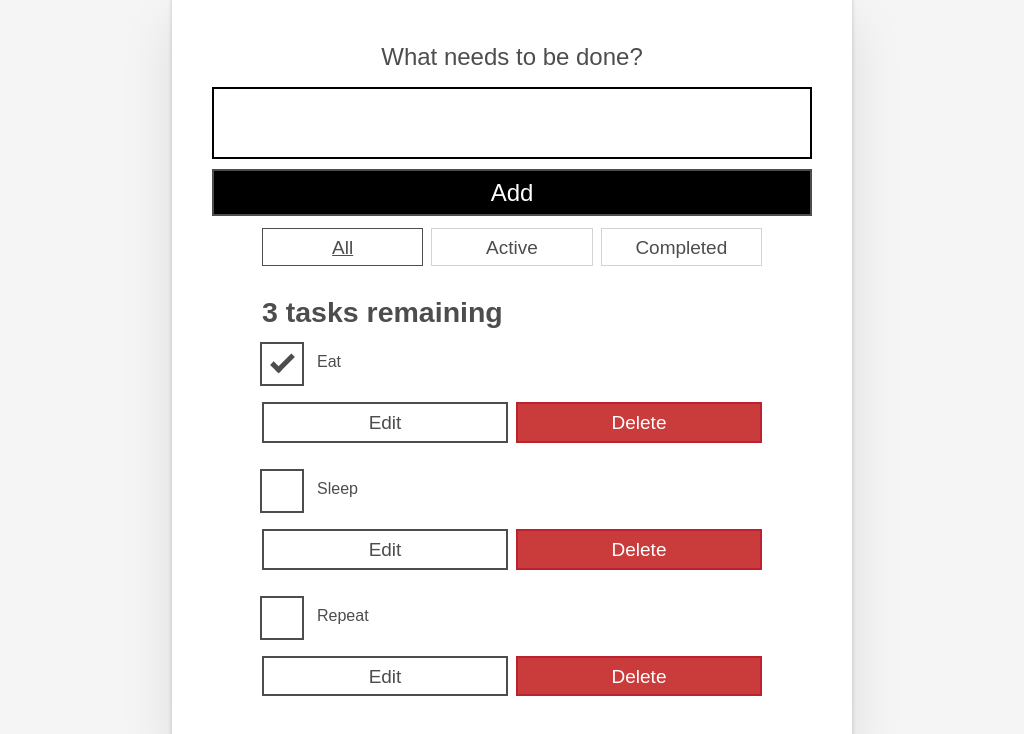
Test: to-do list › can delete task
Type "delete test task" into the field with id "new-todo-input" at (512, 123), box [212,87,812,159]
Then press Enter
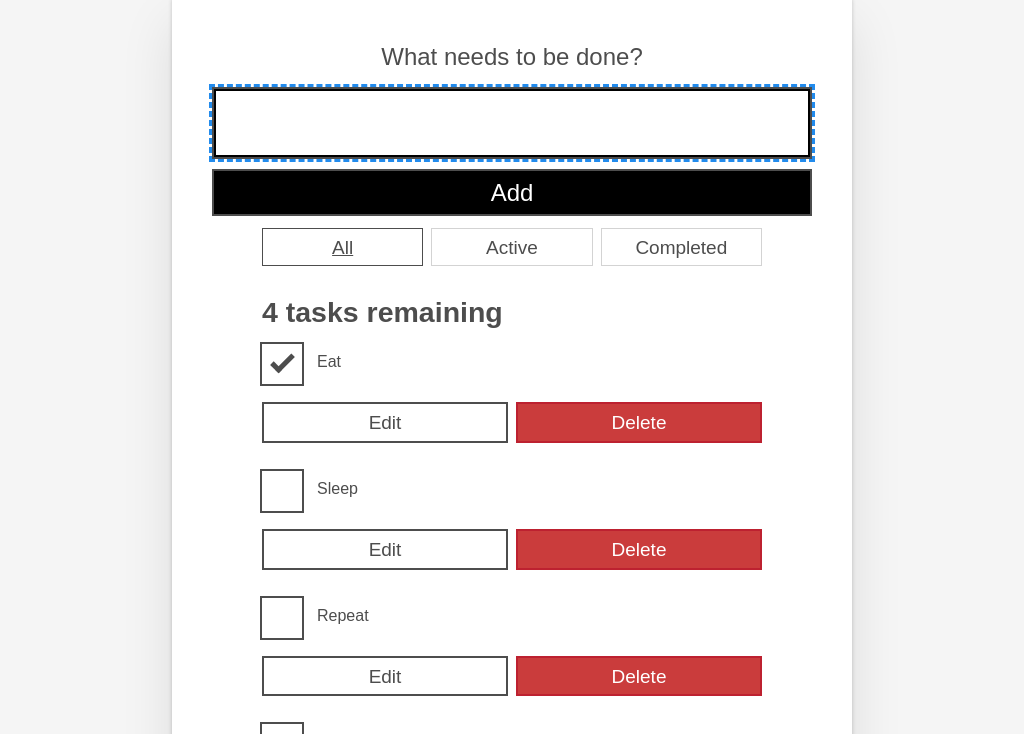
Scroll
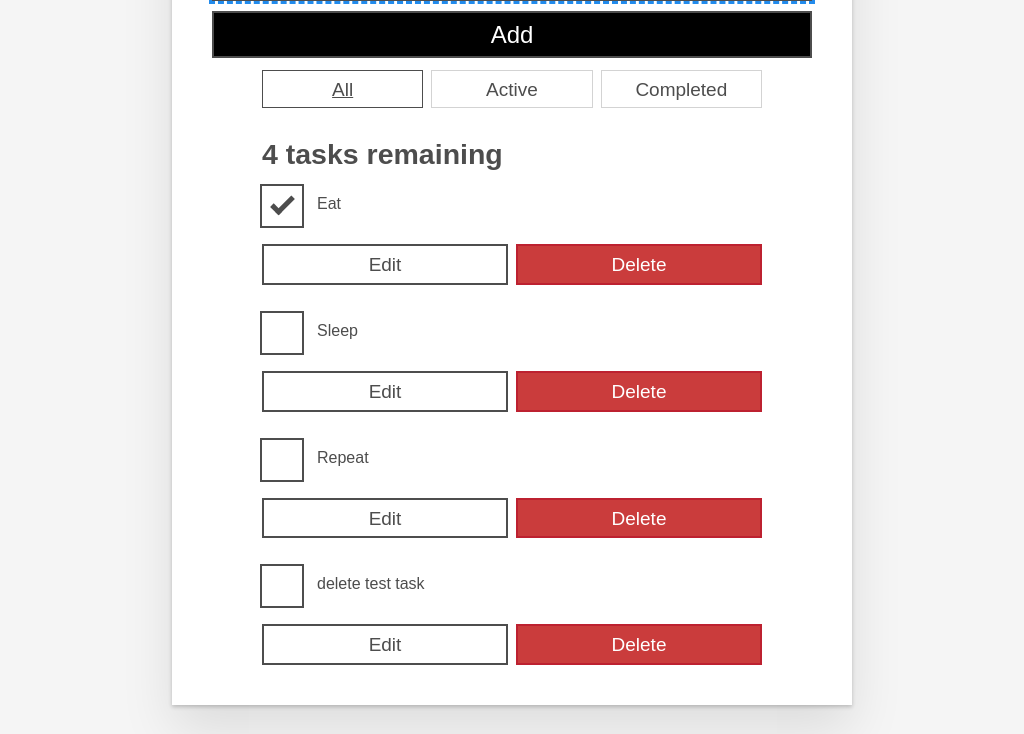
Click the button with class "btn__danger" below "delete test task" at (639, 645), box [516,624,762,665]
(page scrolled)
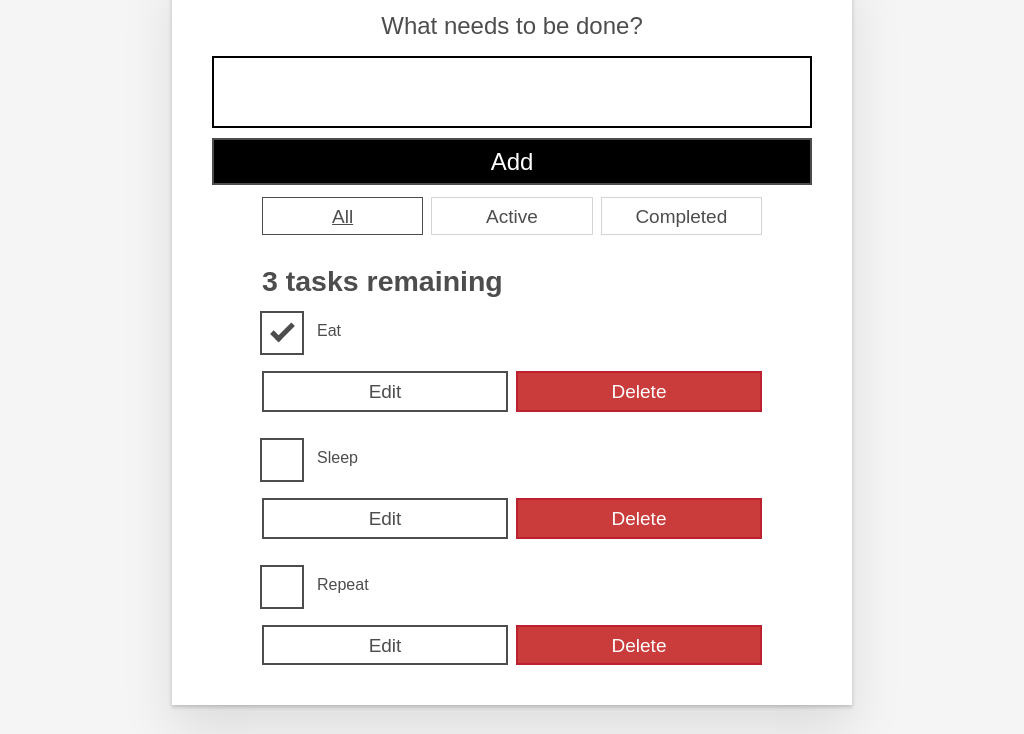
Check: the checkbox with class "todo-label" no longer shows "delete test task"
